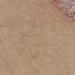plaque psoriasis: (48, 0, 75, 36)
